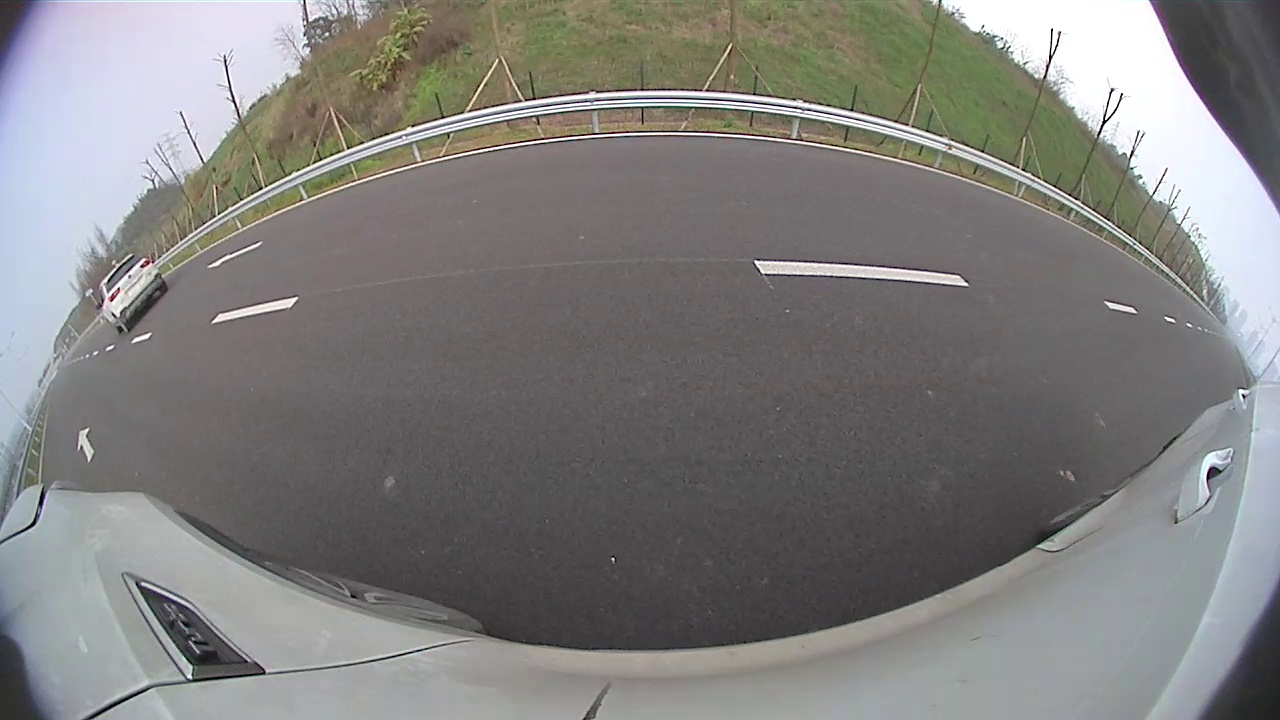car: (96, 252, 170, 334)
rear: (112, 312, 130, 334)
